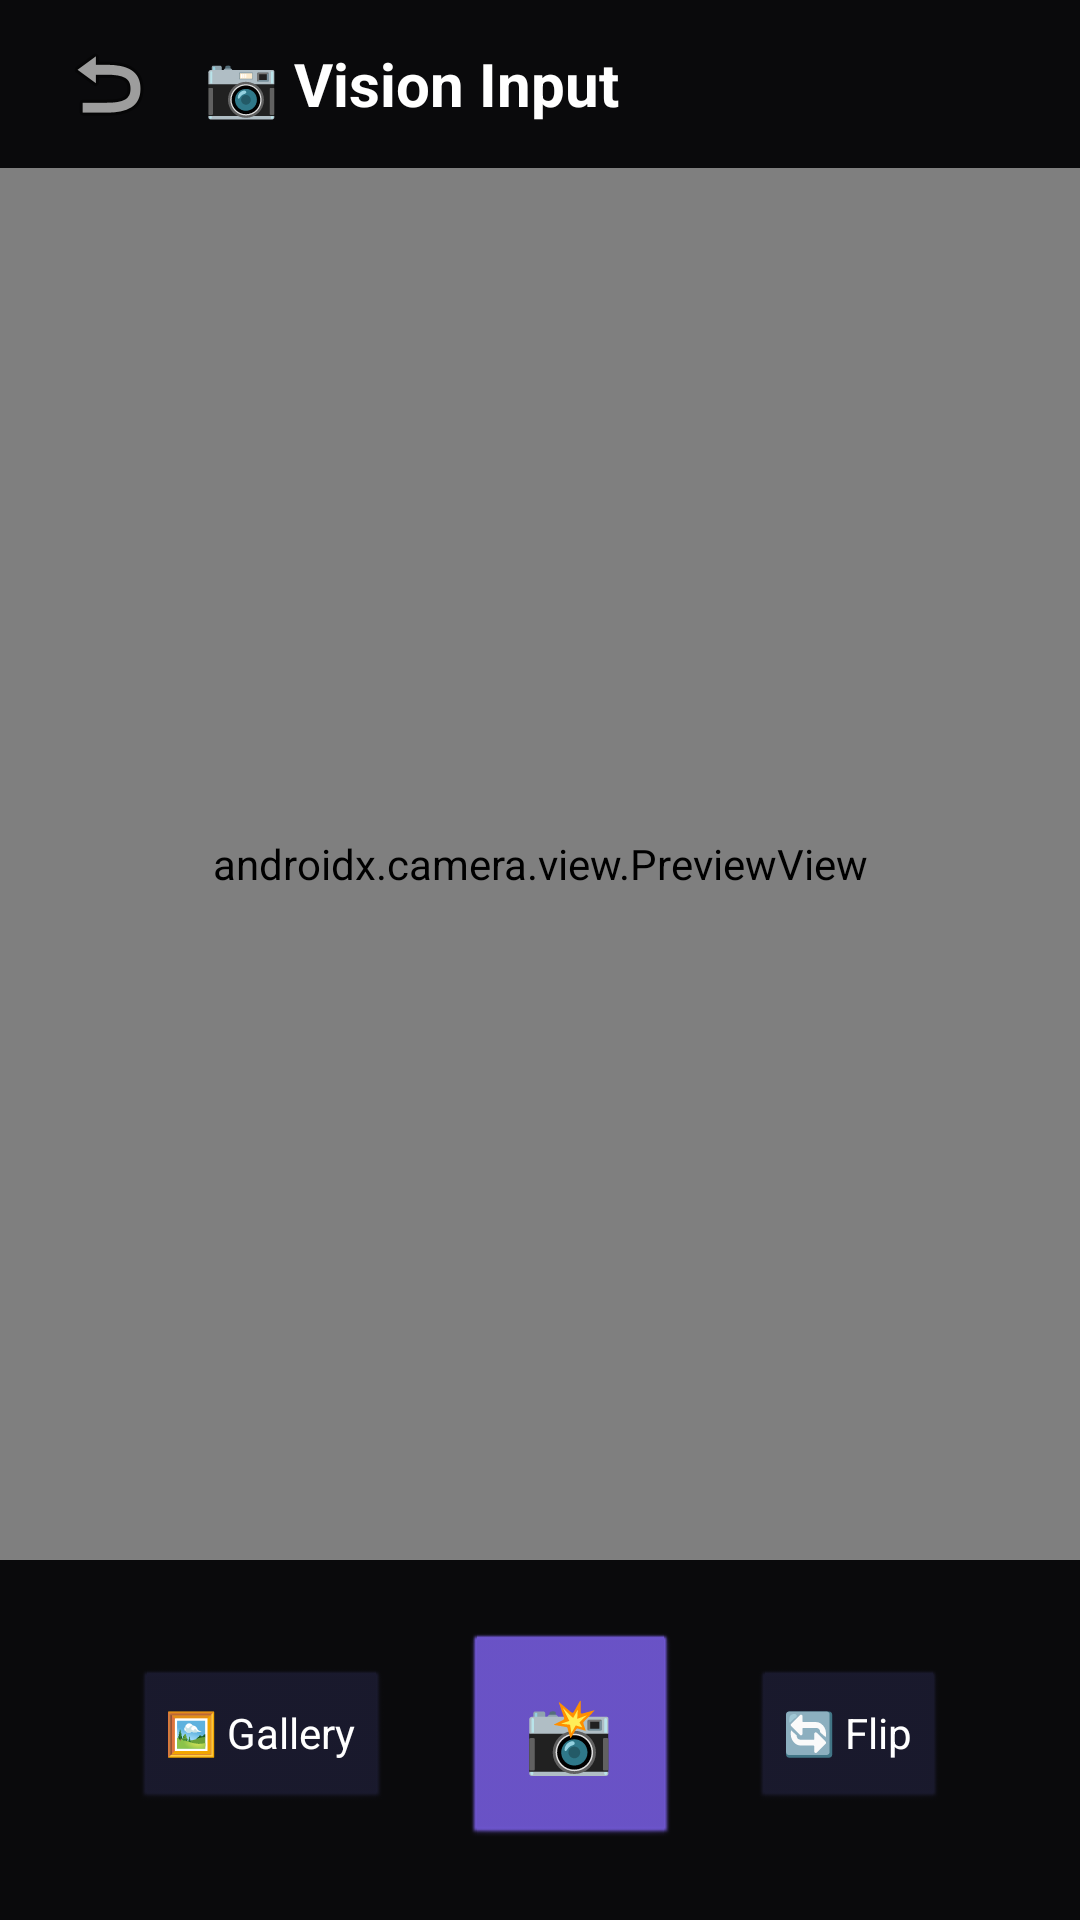

Screen size 1080px×1920px. Icon name, then its center in pixels as (x,y):
Back: (109,84)
